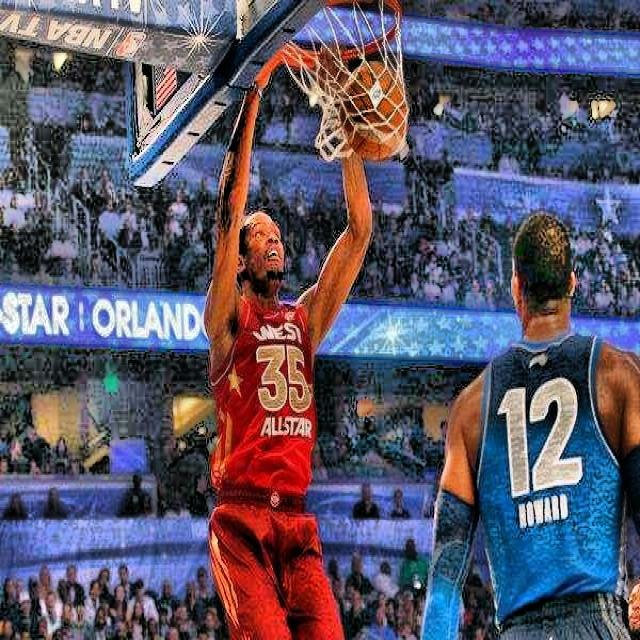rim: (279, 1, 408, 158)
